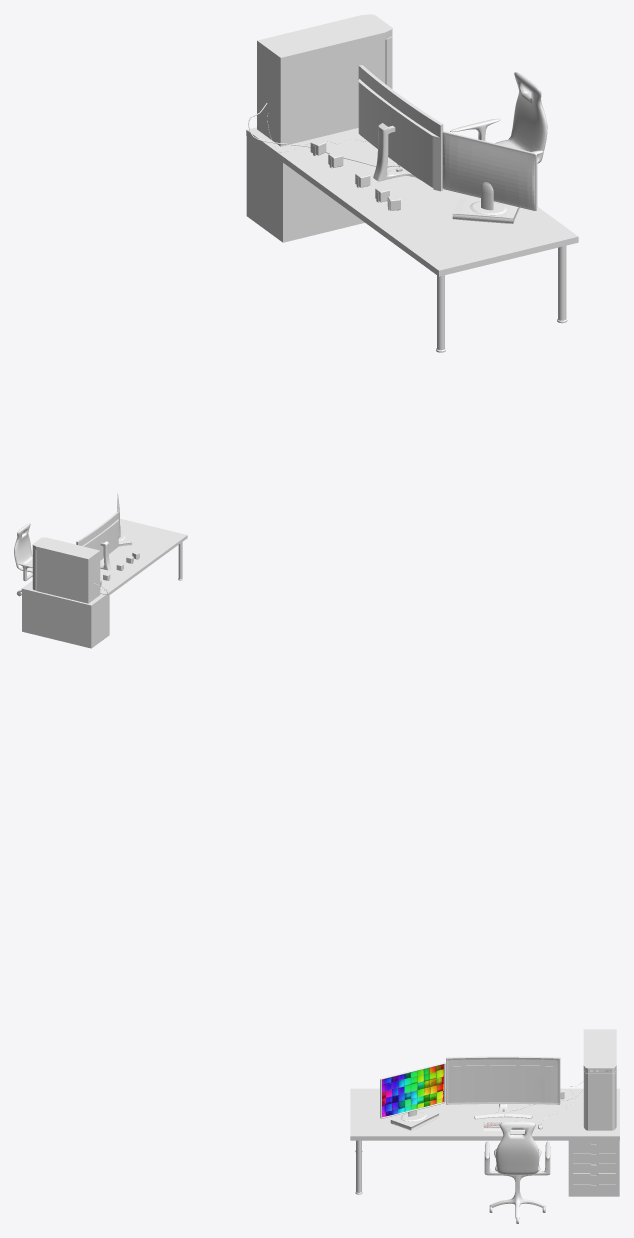
The model's file is Esc.glb.
The picture shows the model from 3 angles, top to bottom: view 1: azimuth 30°, elevation 25°; view 2: azimuth 150°, elevation 25°; view 3: azimuth 270°, elevation 25°; orthographic projection. The views are drawn at different scales.
Visible parts, largest first — view 1: Plane.008, Cube.042, Cube.037, Cube.028, Cube.047, Cylinder.013, Cube.049, Cylinder.017, Cube.013, Cube.046; view 2: Cube.042, Cube.037, Plane.008, Cylinder.013, Cube.047; view 3: Plane.008, Cube.047, Cube.042, Cylinder.013, Cube.028, Cube.036, Cube.049, Cube.037.
Part boxes in pixels (x1=…): Plane.008: x1=246, y1=127, x2=578, y2=276; Cube.042: x1=257, y1=14, x2=392, y2=146; Cube.037: x1=246, y1=136, x2=364, y2=242; Cube.028: x1=442, y1=131, x2=537, y2=210; Cube.047: x1=358, y1=79, x2=439, y2=190; Cylinder.013: x1=450, y1=72, x2=547, y2=163; Cube.049: x1=358, y1=65, x2=443, y2=191; Cylinder.017: x1=436, y1=246, x2=567, y2=352; Cube.013: x1=452, y1=197, x2=519, y2=223; Cube.046: x1=373, y1=123, x2=419, y2=181; Cube.042: x1=32, y1=537, x2=100, y2=603; Cube.037: x1=22, y1=591, x2=109, y2=648; Plane.008: x1=21, y1=518, x2=187, y2=608; Cylinder.013: x1=14, y1=523, x2=32, y2=596; Cube.047: x1=82, y1=519, x2=118, y2=560; Plane.008: x1=350, y1=1088, x2=619, y2=1140; Cube.047: x1=448, y1=1065, x2=557, y2=1102; Cube.042: x1=583, y1=1029, x2=616, y2=1130; Cylinder.013: x1=484, y1=1122, x2=550, y2=1223; Cube.028: x1=380, y1=1063, x2=445, y2=1118; Cube.036: x1=573, y1=1143, x2=615, y2=1193; Cube.049: x1=446, y1=1056, x2=560, y2=1104; Cube.037: x1=568, y1=1140, x2=619, y2=1196.
Bounding box in the file's own units: 16.42 × 6.88 × 14.56.
Materials: 22 (1 with a texture image).
